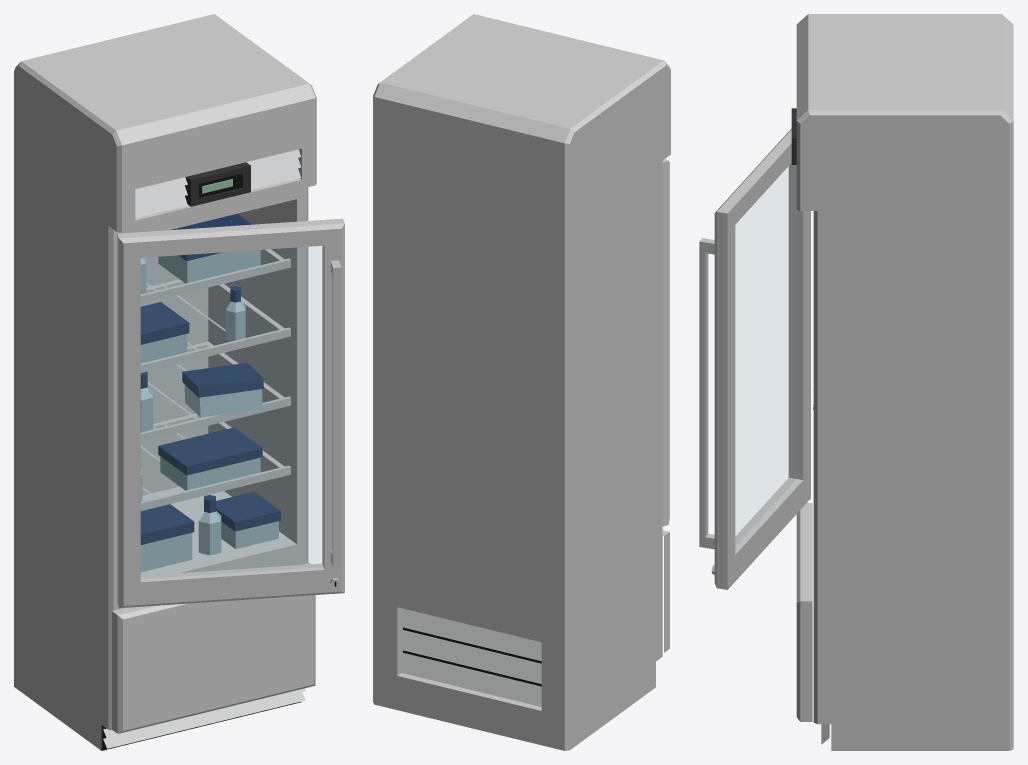
The model's file is glass-door-sample-fridge-386715.glb.
3 renders of one model, left to right at view 1: azimuth 30°, elevation 25°; view 2: azimuth 150°, elevation 25°; view 3: azimuth 270°, elevation 25°, orthographic. The views are drawn at different scales.
Parts seen in each view (by area): view 1: glass-door-sample-fridge, door, sample-box; view 2: glass-door-sample-fridge, door; view 3: glass-door-sample-fridge, door.
Boxes of the visible parts, left/top/right/bottom form: glass-door-sample-fridge: left=14, top=14, right=316, bottom=750; door: left=117, top=218, right=344, bottom=608; sample-box: left=182, top=363, right=263, bottom=417; glass-door-sample-fridge: left=373, top=14, right=670, bottom=750; door: left=662, top=159, right=669, bottom=526; glass-door-sample-fridge: left=791, top=14, right=1013, bottom=750; door: left=699, top=128, right=810, bottom=589.
Bounding box in the file's own units: 0.6 × 1.8 × 0.8019.
